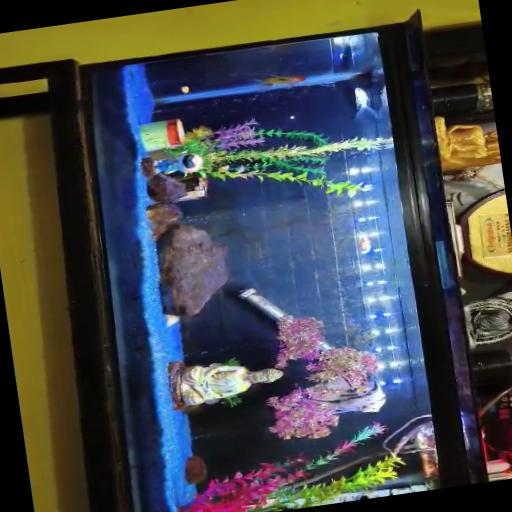Fish: (310, 374, 385, 413), (352, 87, 376, 119), (253, 75, 304, 86), (252, 44, 293, 55), (358, 235, 370, 253), (180, 86, 189, 94)
